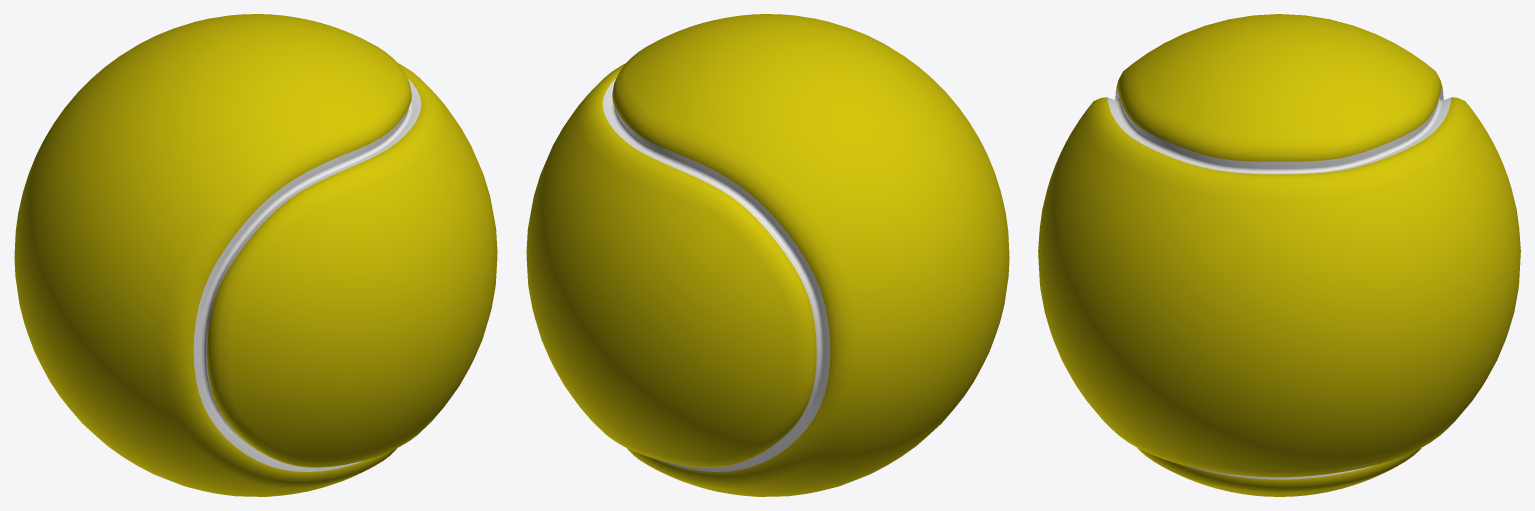
The model's file is TennisBall.fbx.
The picture shows the model from 3 angles, left to right: view 1: azimuth 30°, elevation 25°; view 2: azimuth 150°, elevation 25°; view 3: azimuth 270°, elevation 25°; orthographic projection.
Visible parts, largest first — view 1: Circle.001; view 2: Circle.001; view 3: Circle.001.
Part boxes in pixels (x1,y1,x2,y2): Circle.001: [14, 14, 497, 496]; Circle.001: [526, 14, 1009, 496]; Circle.001: [1038, 14, 1520, 496].
Bounding box in the file's own units: 173 × 172 × 172.
